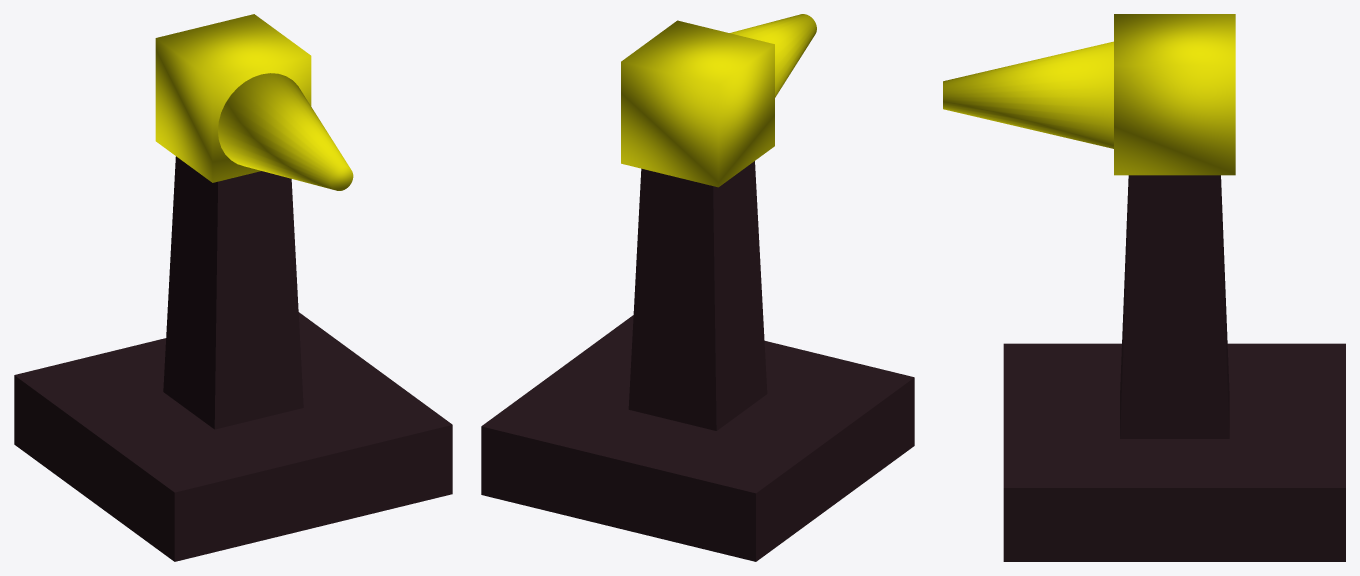
Rendered from laserTower.fbx.
3 renders of one model, left to right at view 1: azimuth 30°, elevation 25°; view 2: azimuth 150°, elevation 25°; view 3: azimuth 270°, elevation 25°, orthographic. The views are drawn at different scales.
Parts seen in each view (by area): view 1: base, head; view 2: base, head; view 3: base, head.
Boxes of the visible parts, x1,y1,x2,y2 form: base: (14, 156, 452, 561); head: (155, 14, 353, 190); base: (481, 161, 914, 561); head: (621, 14, 816, 187); base: (1003, 175, 1345, 561); head: (943, 14, 1235, 175).
Bounding box in the file's own units: 200 × 290 × 235.
